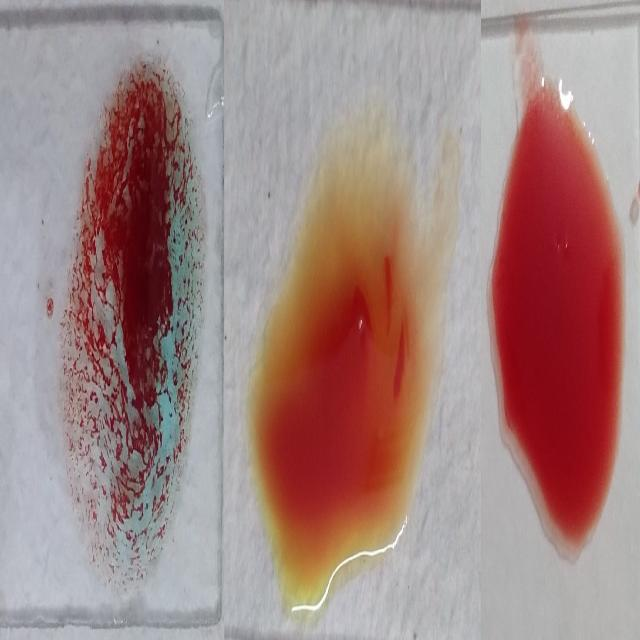A: (60, 55, 202, 594)
